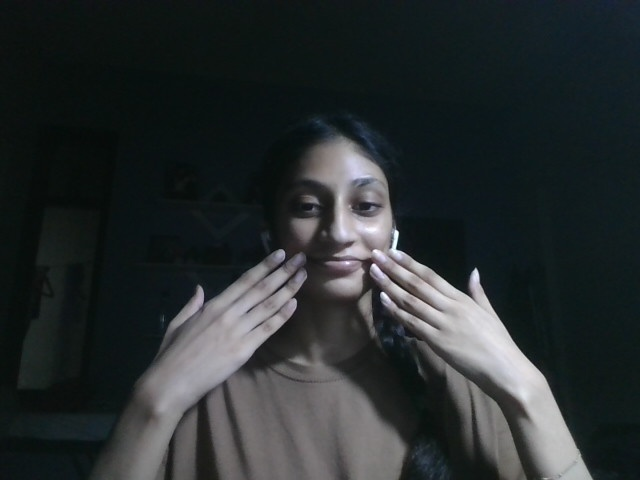thank you: (145, 247, 548, 410)
